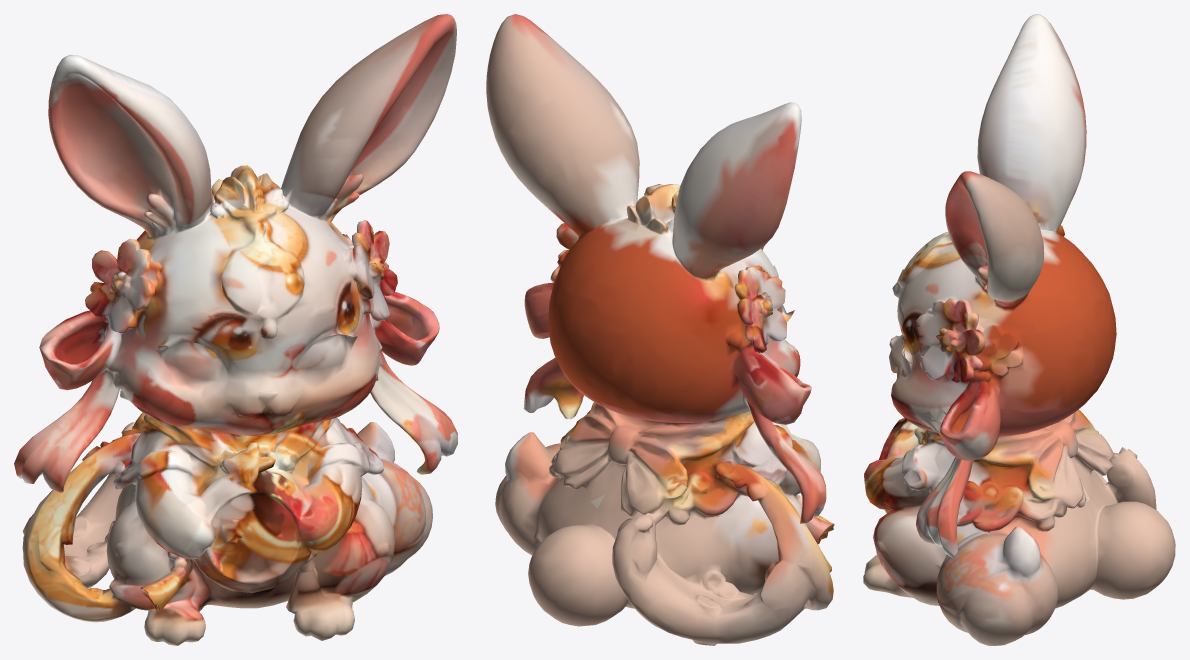
File: rabbit_roblox.glb
The picture shows the model from 3 angles, left to right: view 1: azimuth 30°, elevation 25°; view 2: azimuth 150°, elevation 25°; view 3: azimuth 270°, elevation 25°; orthographic projection. The views are drawn at different scales.
Parts seen in each view (by area): view 1: MoonRabbit_Part002, MoonRabbit_Eyes; view 2: MoonRabbit_Part002; view 3: MoonRabbit_Part002, MoonRabbit_Eyes.
Boxes of the visible parts, bbox=[...] form: MoonRabbit_Part002: bbox=[14, 14, 457, 645]; MoonRabbit_Eyes: bbox=[259, 269, 338, 370]; MoonRabbit_Part002: bbox=[486, 14, 834, 645]; MoonRabbit_Part002: bbox=[863, 14, 1175, 645]; MoonRabbit_Eyes: bbox=[892, 261, 920, 353].
Bounding box in the file's own units: 2.4 × 3.25 × 1.83.
1 material, 1 textured.
